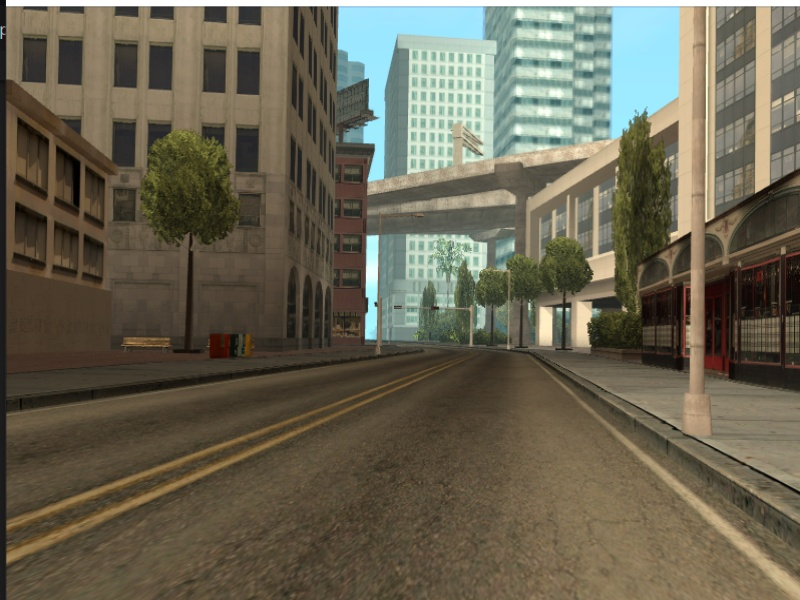pole: (688, 5, 723, 443), (374, 212, 388, 356), (504, 266, 515, 355), (466, 304, 478, 348)
tree: (183, 230, 201, 351)
